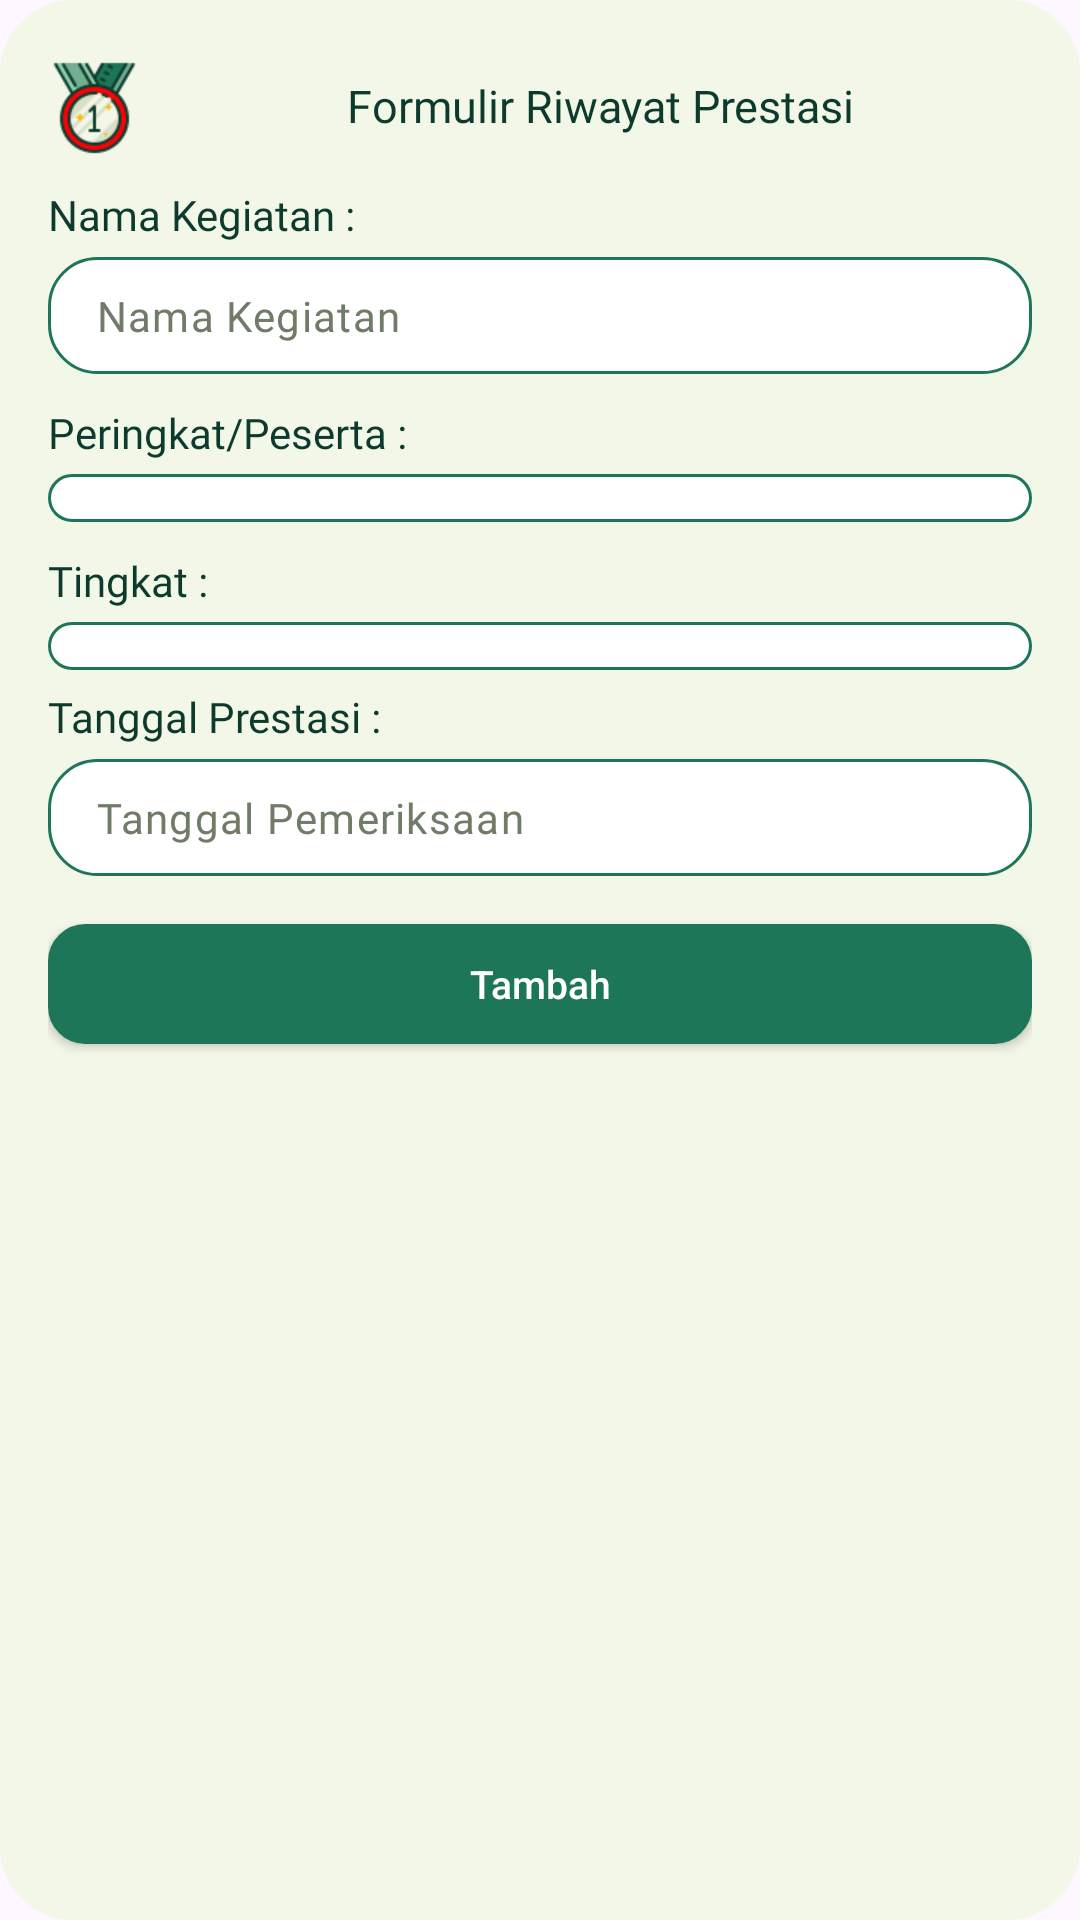

Point at icon controls on the screen. Image size 1080*1920, points as (x,y).
award: (94,108)
